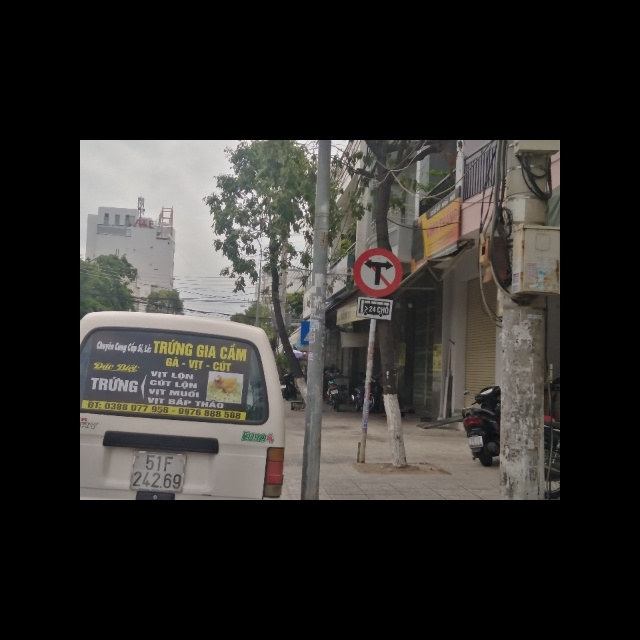Cấm rẽ trái và rẽ phải: (353, 248, 402, 297)
